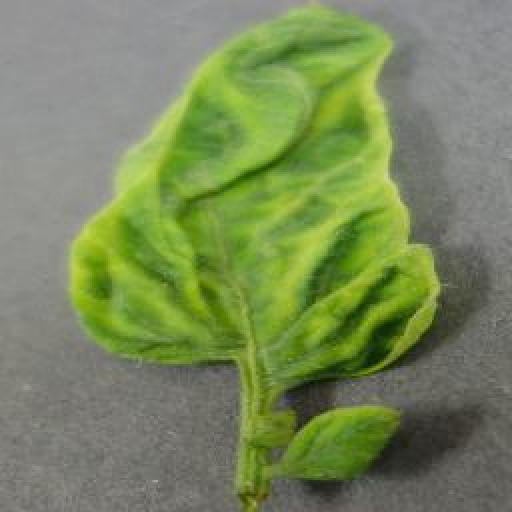disease_tomato: (66, 8, 440, 382), (285, 402, 407, 480)
